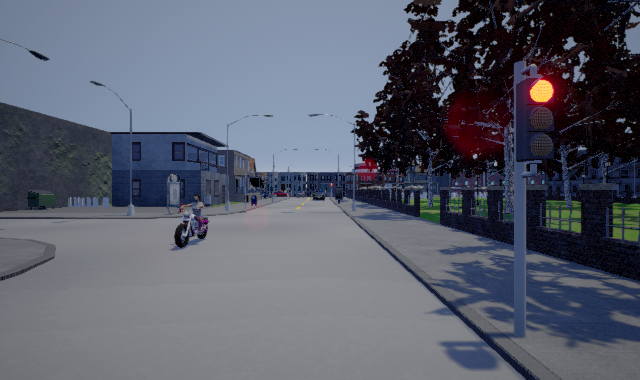bike: (174, 195, 213, 248)
traffic_light: (516, 64, 559, 178)
vehicle: (311, 190, 328, 201)
